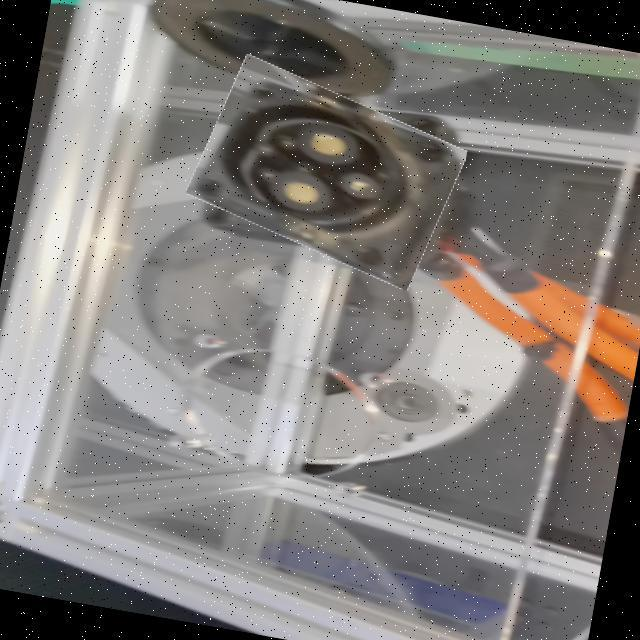GB-T: (198, 104, 456, 239)
